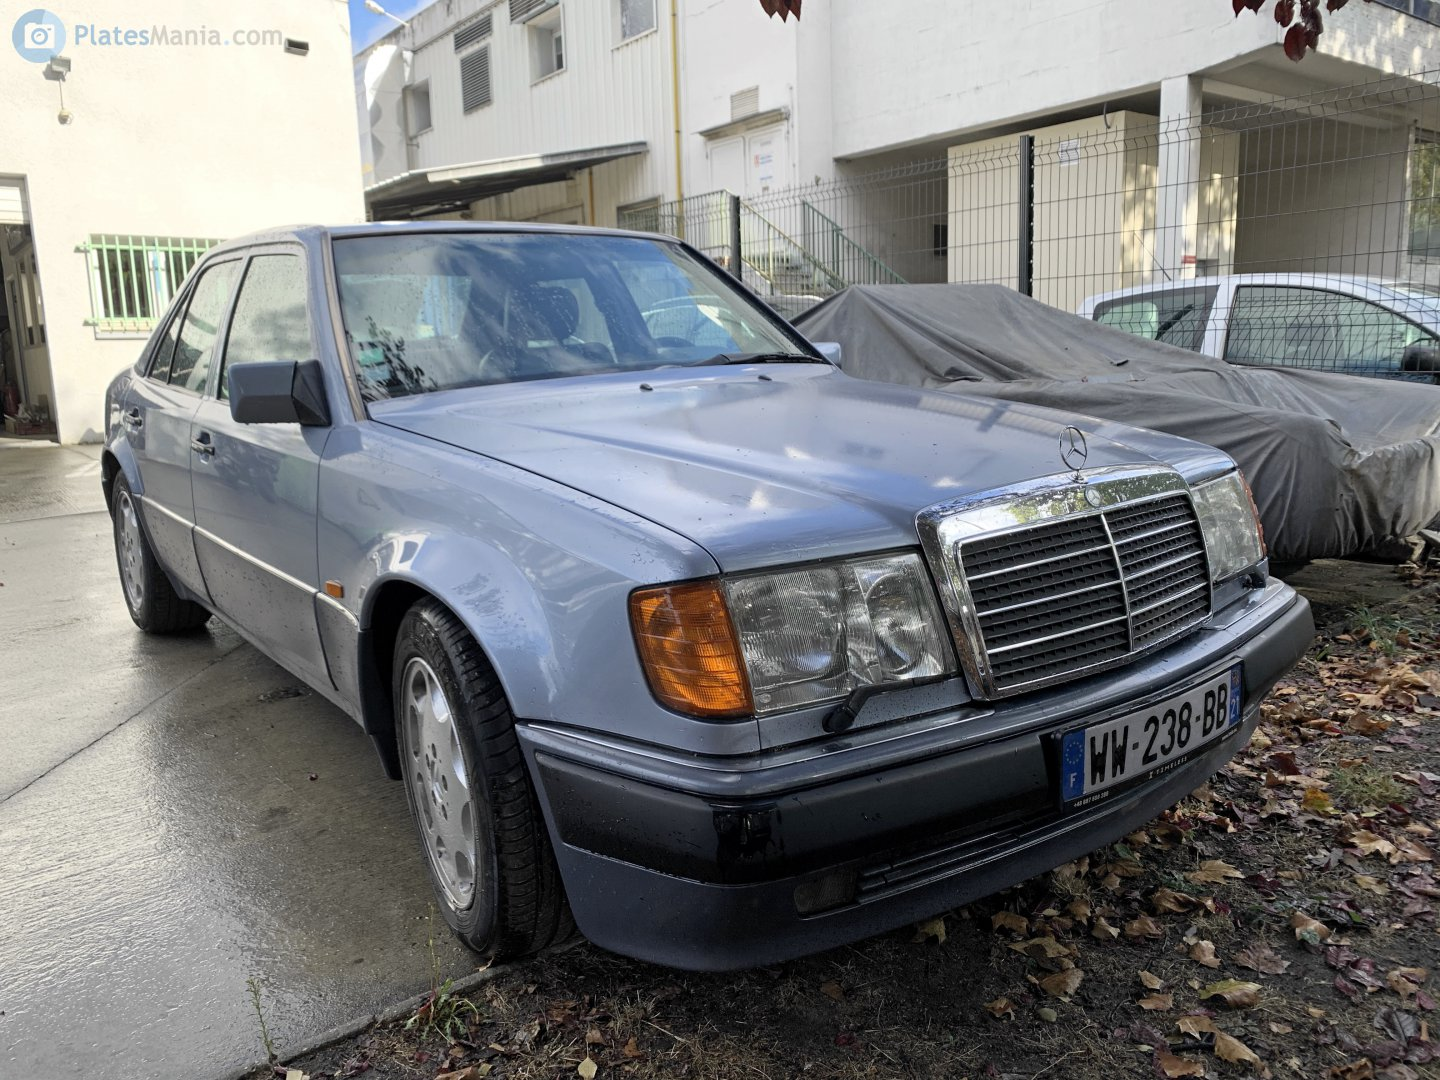licence plate: (1053, 646, 1253, 815)
